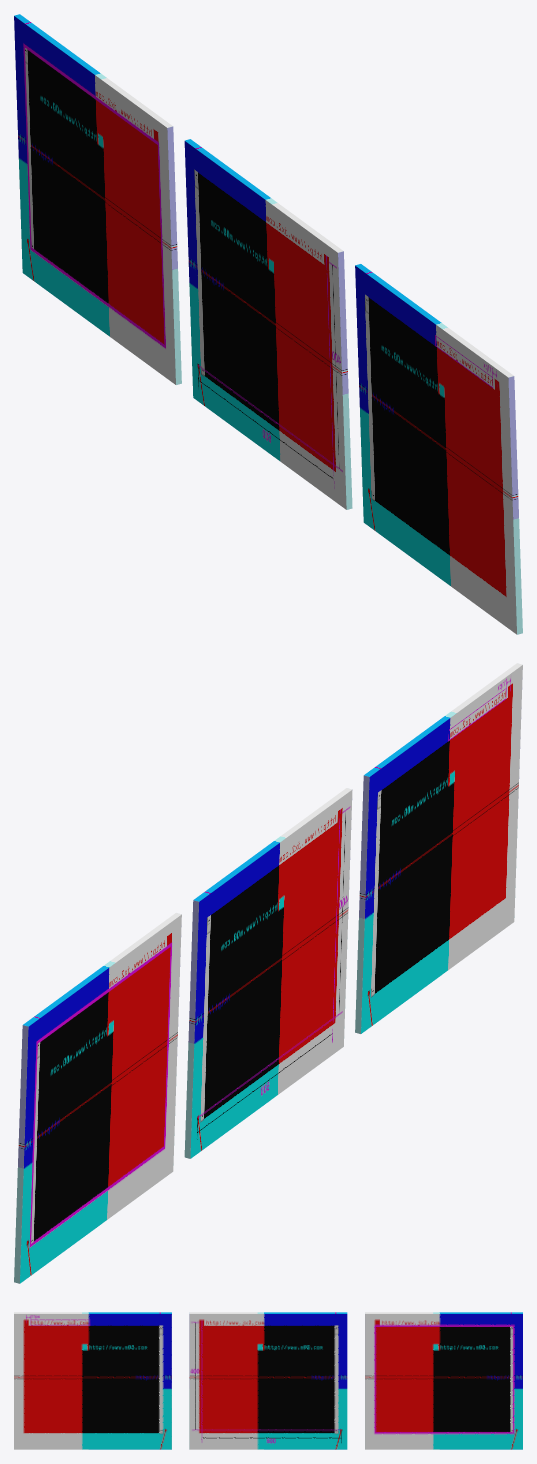
The model's file is screen_middle_2_jiawen.fbx.
3 renders of one model, top to bottom at view 1: azimuth 30°, elevation 25°; view 2: azimuth 150°, elevation 25°; view 3: azimuth 270°, elevation 25°, orthographic. The views are drawn at different scales.
Visible parts, largest first — view 1: screen_2_middle_center, screen_2_middle_right, screen_2_middle_left; view 2: screen_2_middle_center, screen_2_middle_right, screen_2_middle_left; view 3: screen_2_middle_center, screen_2_middle_right, screen_2_middle_left.
Part boxes in pixels (<box>): screen_2_middle_center: <box>184,139,352,509</box>; screen_2_middle_right: <box>14,14,181,384</box>; screen_2_middle_left: <box>355,264,522,634</box>; screen_2_middle_center: <box>184,788,352,1158</box>; screen_2_middle_right: <box>14,913,181,1283</box>; screen_2_middle_left: <box>355,663,522,1033</box>; screen_2_middle_center: <box>189,1312,347,1449</box>; screen_2_middle_right: <box>365,1312,522,1449</box>; screen_2_middle_left: <box>14,1312,171,1449</box>.
Bounding box in the file's own units: 0.7065 × 12.07 × 41.69.
Materials: 3 (3 with a texture image).
